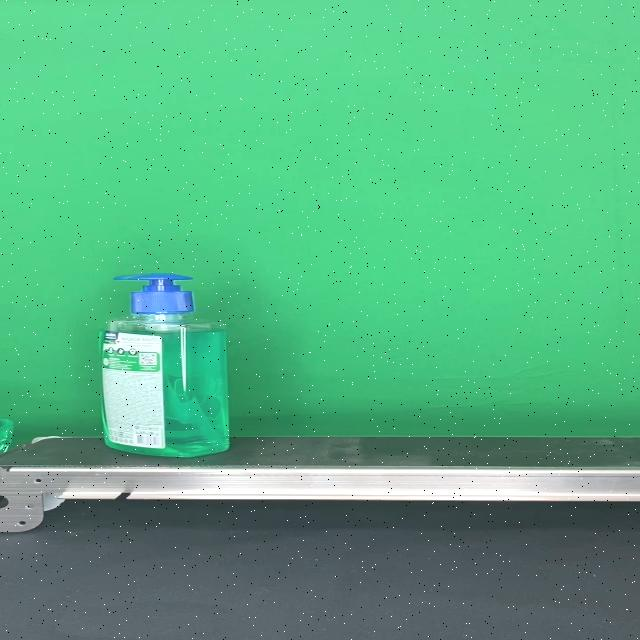Bottle: (98, 274, 230, 458)
Cap: (114, 273, 197, 315)
